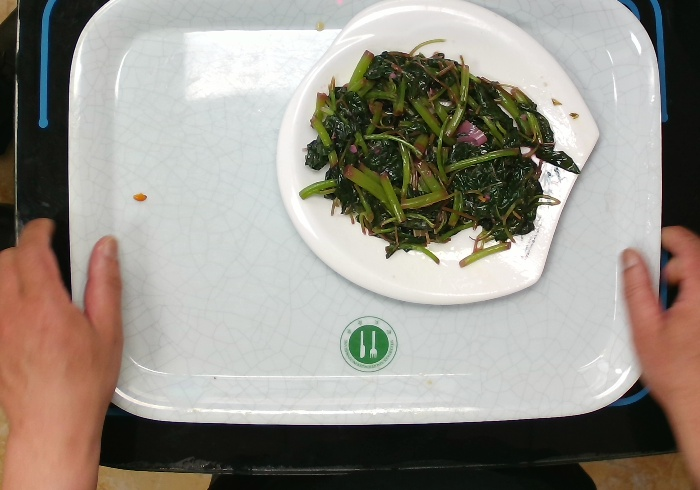JYsf-Mian_Pan: (274, 1, 601, 306)
